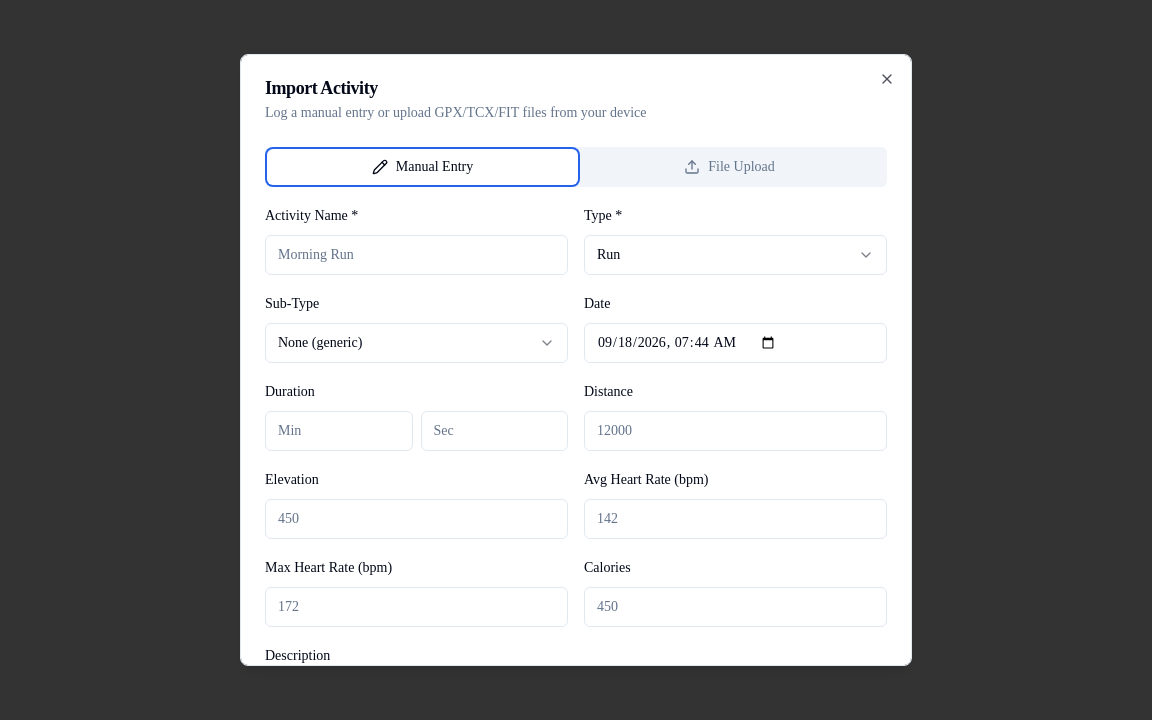
Scenario: ImportModal › handles network error
Type "Test Run" into the field with placeholder "Morning Run" at {"x": 416, "y": 255}, box x1=265 y1=235 x2=568 y2=275
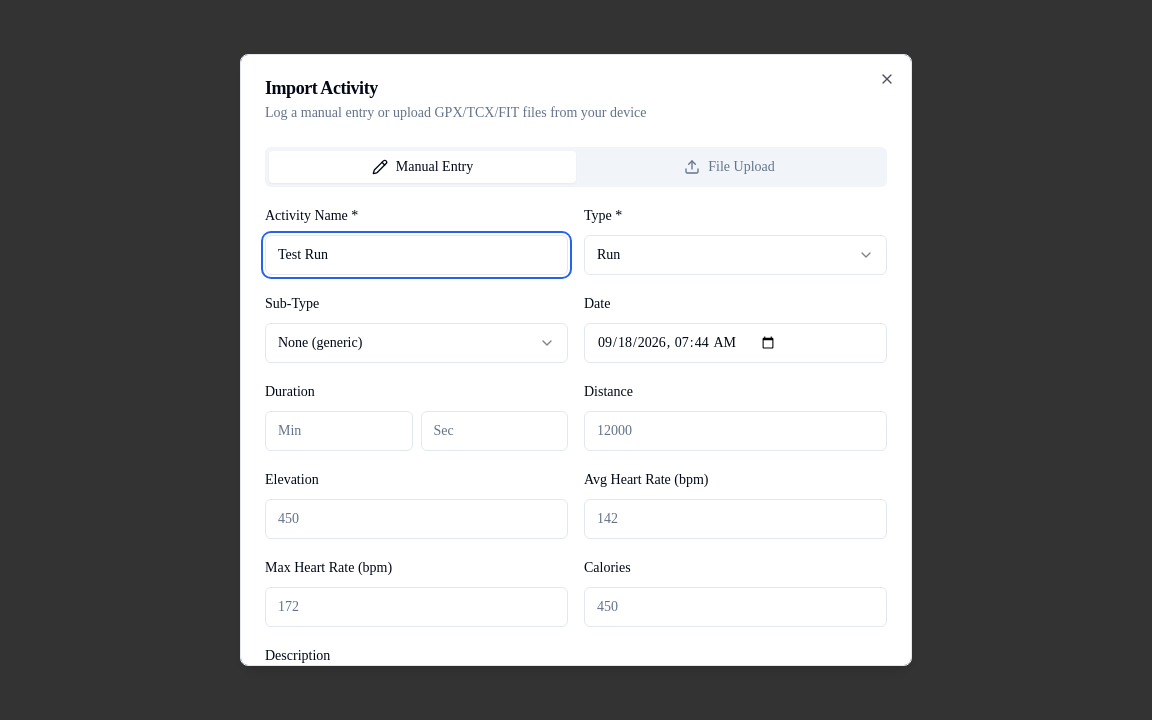
Type "30" into the number field with placeholder "Min" at {"x": 339, "y": 431}, box x1=265 y1=411 x2=412 y2=451
(page scrolled)
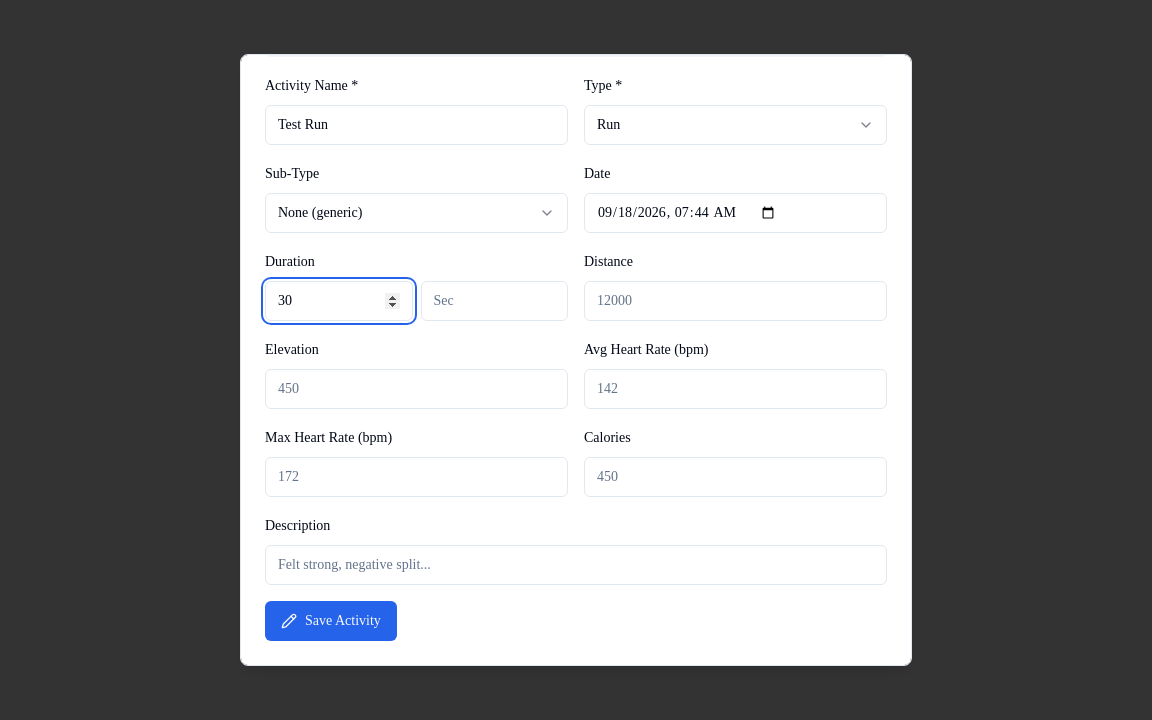
Click the button "Save Activity" at {"x": 331, "y": 621}, box x1=265 y1=601 x2=397 y2=641
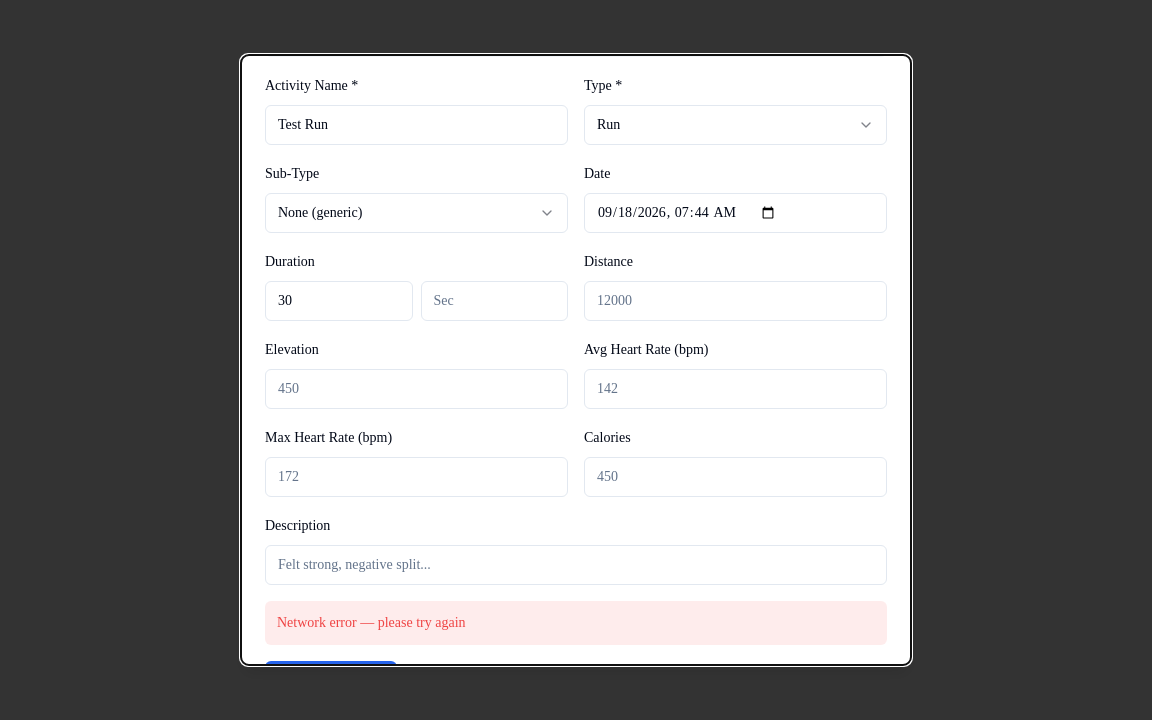
expect the dialog shows "Network error": met, box x1=277 y1=615 x2=466 y2=630
